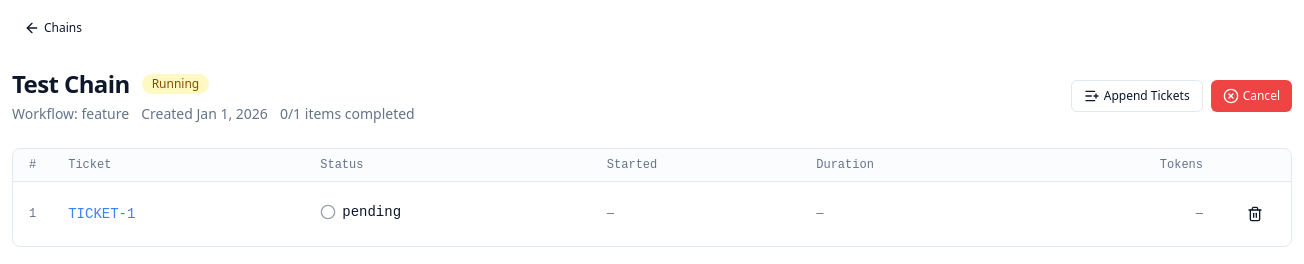
Test case: ChainDetailPage - Remove confirmation flow › shows Removing... text and disables button while mutation is pending
Trash button still visible (isPending only affects confirmation row, not canRemove)
Click the 4th button at (1255, 214), box x1=1235 y1=194 x2=1275 y2=234
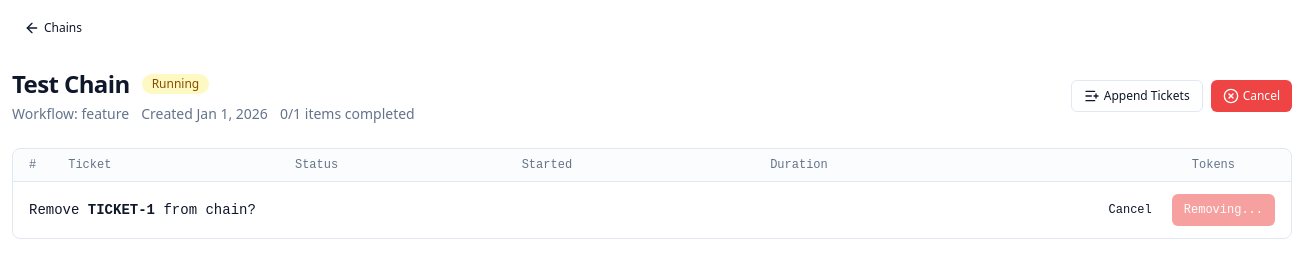
Result: the button "Removing..." is disabled at x1=1172 y1=194 x2=1275 y2=226
